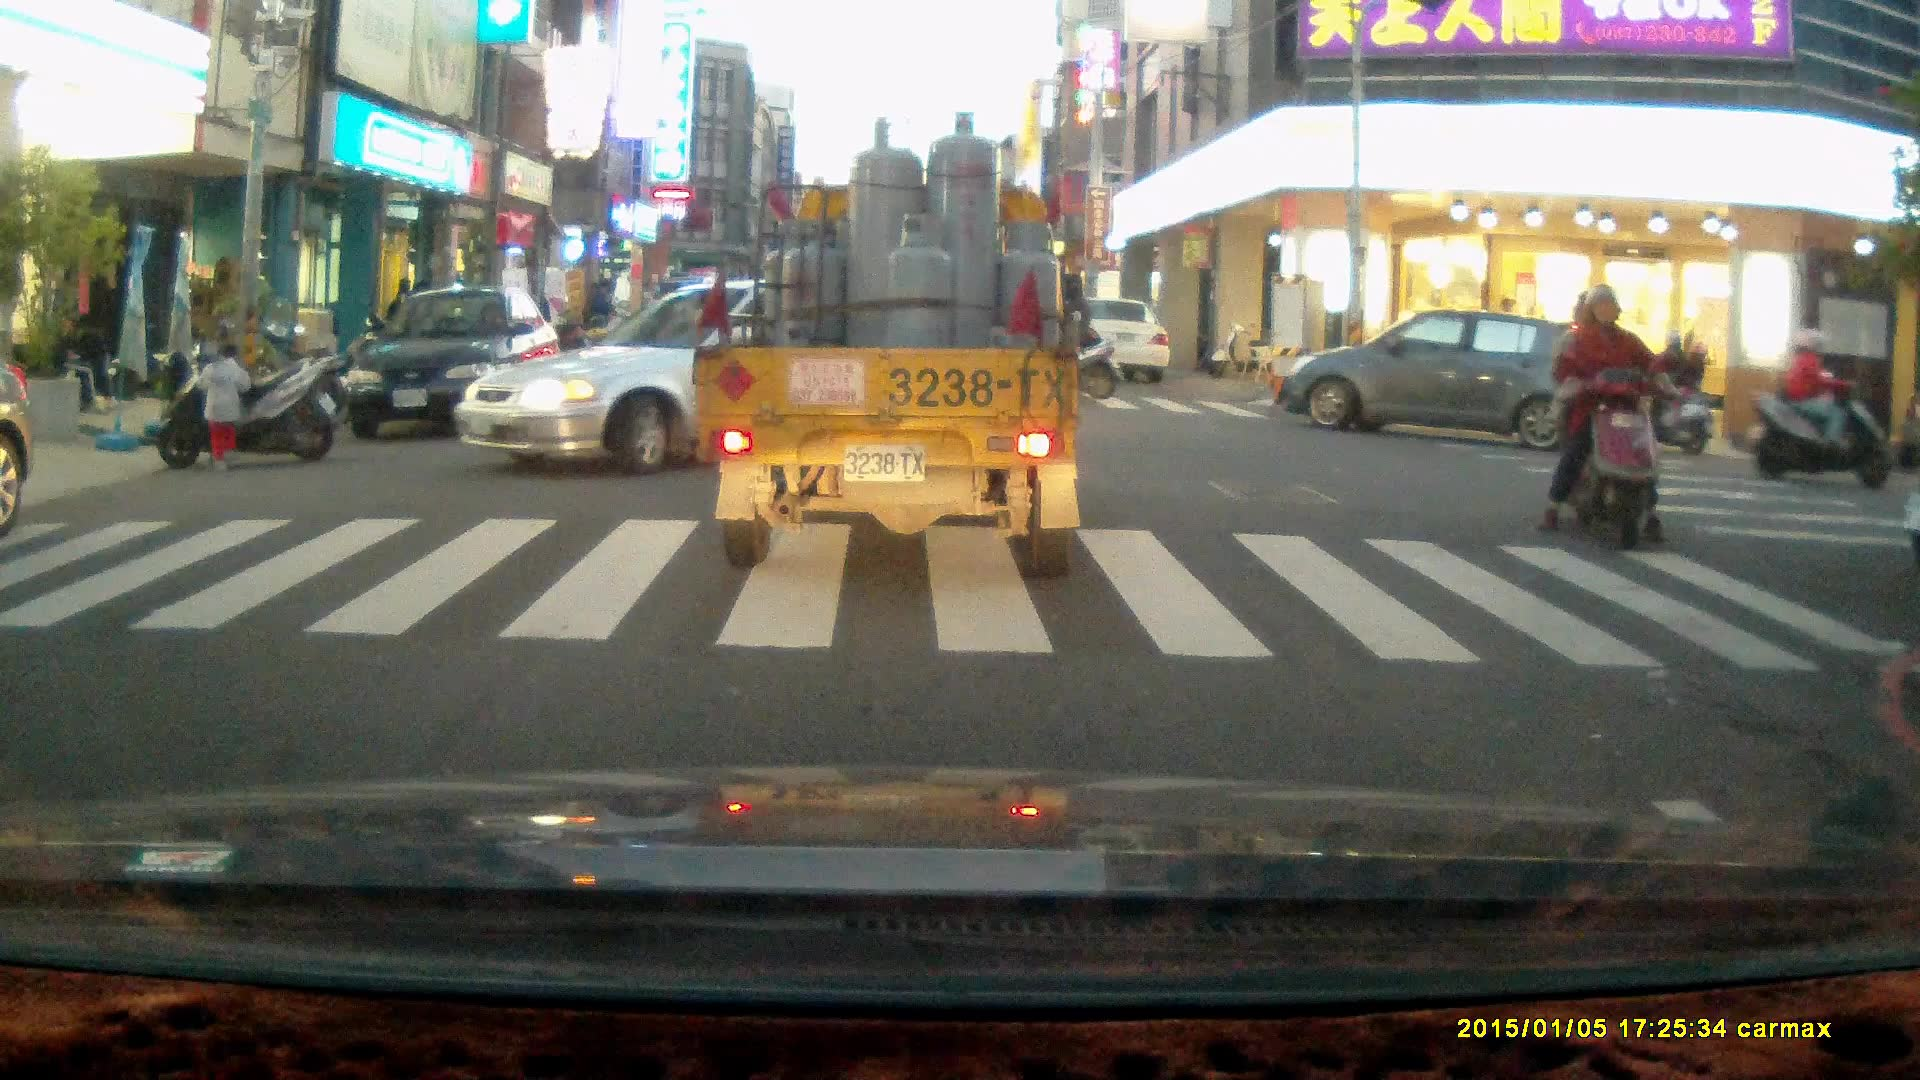pedestrian: (194, 337, 251, 468), (590, 277, 617, 339)
rider: (1533, 286, 1667, 551), (1747, 324, 1888, 488), (1601, 327, 1715, 455), (1025, 280, 1120, 401)
vehicle: (695, 112, 1084, 580), (454, 280, 987, 470), (1272, 309, 1609, 457), (339, 286, 563, 440), (1069, 297, 1172, 383)
